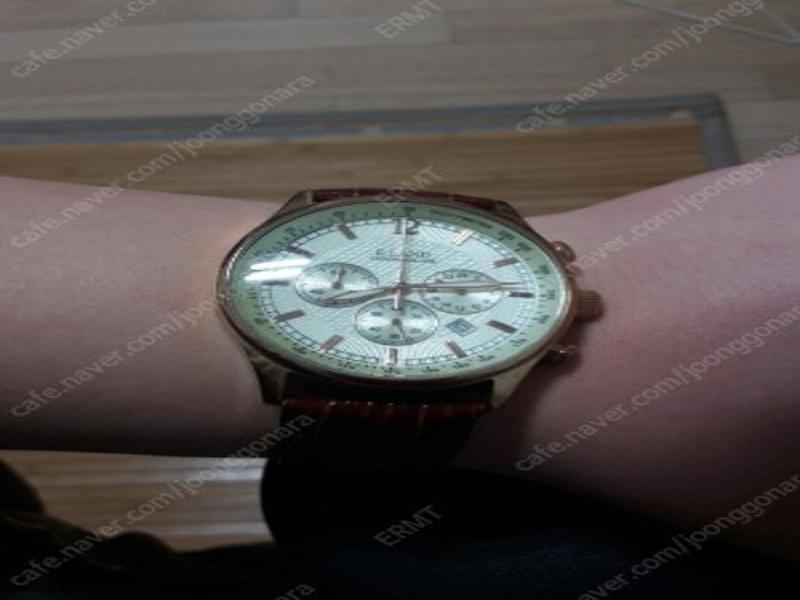watch: (214, 170, 597, 467)
